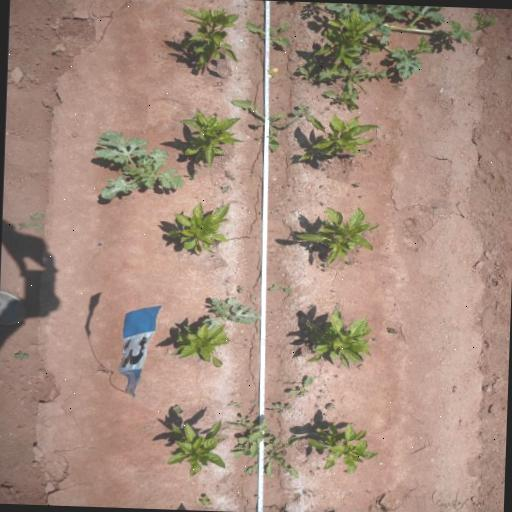plant: (290, 202, 379, 264), (298, 306, 372, 370), (174, 5, 242, 71), (304, 420, 381, 474), (296, 118, 382, 166), (174, 113, 247, 169), (163, 199, 232, 256), (165, 416, 226, 478), (309, 13, 378, 66), (168, 320, 232, 369)
weed: (310, 2, 505, 79), (88, 128, 184, 202), (227, 98, 298, 154), (244, 433, 302, 481), (318, 58, 386, 96), (224, 418, 274, 457), (200, 294, 262, 324), (242, 19, 292, 50), (322, 90, 360, 112), (16, 210, 45, 233), (287, 373, 313, 397), (296, 58, 318, 83), (290, 102, 313, 120), (266, 402, 292, 415), (268, 282, 292, 294), (197, 494, 213, 506), (236, 414, 255, 424), (184, 168, 198, 180), (12, 350, 28, 360), (266, 67, 278, 80), (226, 400, 241, 409), (223, 170, 235, 181), (170, 405, 183, 415), (377, 502, 390, 512), (391, 82, 403, 92), (324, 402, 336, 412), (220, 184, 230, 194), (386, 326, 397, 334), (234, 286, 244, 294), (282, 72, 293, 79), (303, 490, 314, 496), (352, 180, 360, 187), (345, 260, 355, 265), (307, 304, 315, 310), (324, 506, 332, 512), (322, 262, 328, 268), (370, 338, 378, 342), (212, 111, 218, 116), (202, 162, 207, 168), (321, 166, 328, 170), (342, 168, 348, 172), (96, 242, 102, 246), (321, 268, 327, 271), (314, 404, 318, 408), (254, 494, 258, 498), (319, 184, 324, 187), (319, 390, 324, 393), (316, 396, 320, 399), (320, 202, 325, 204)
